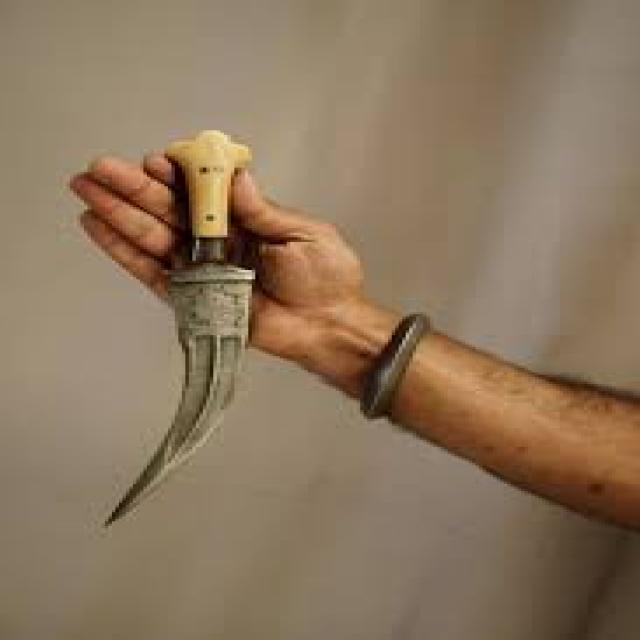Gun: (99, 106, 282, 558)
